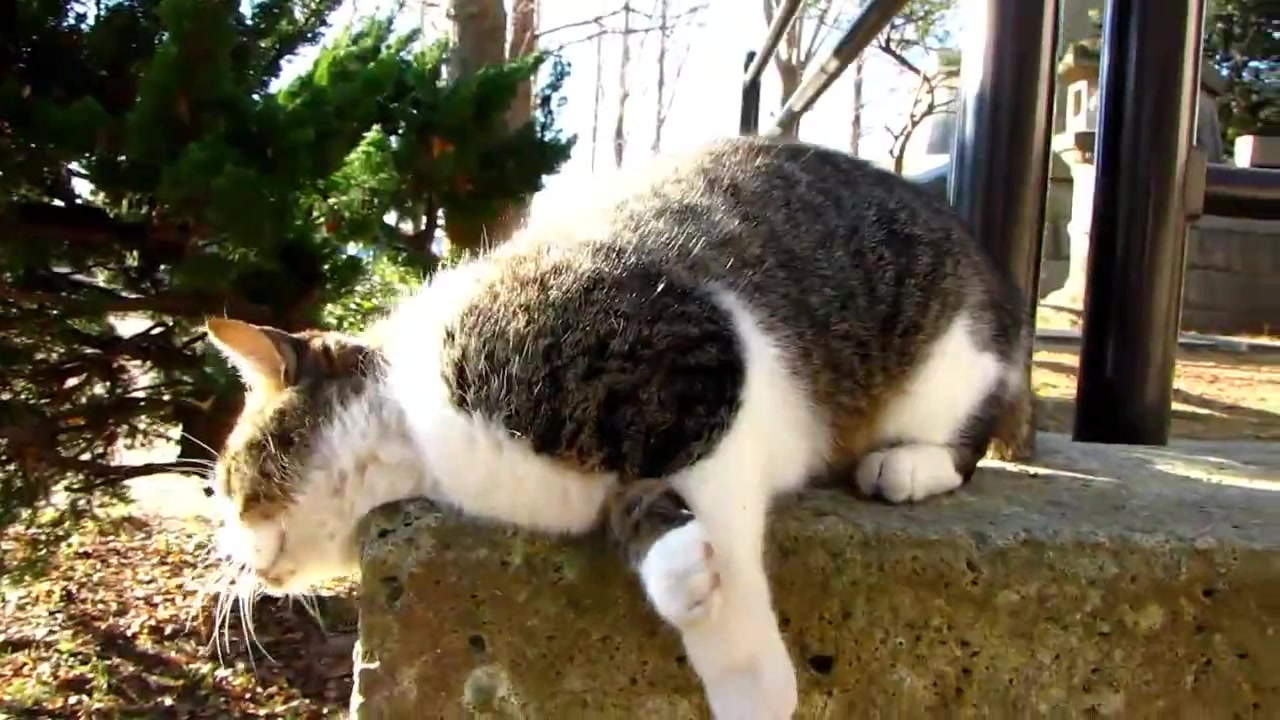cat: (200, 146, 1034, 720)
